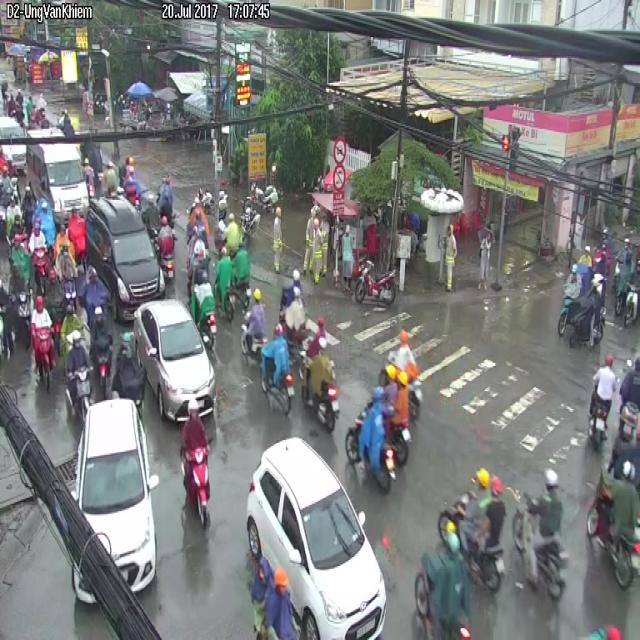car: (181, 400, 209, 526), (261, 332, 293, 413), (191, 265, 217, 348)
traffic-light: (246, 437, 386, 639), (72, 399, 158, 591), (135, 299, 216, 422)
